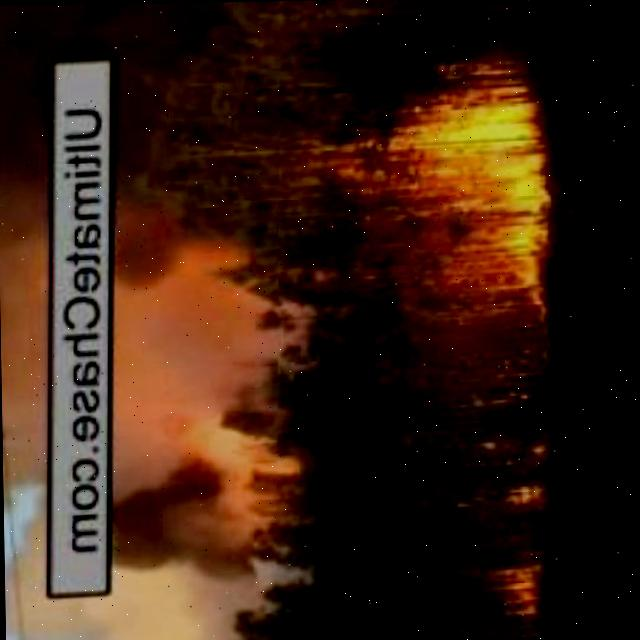fire: (390, 96, 550, 308), (488, 562, 547, 625), (500, 477, 544, 519)
